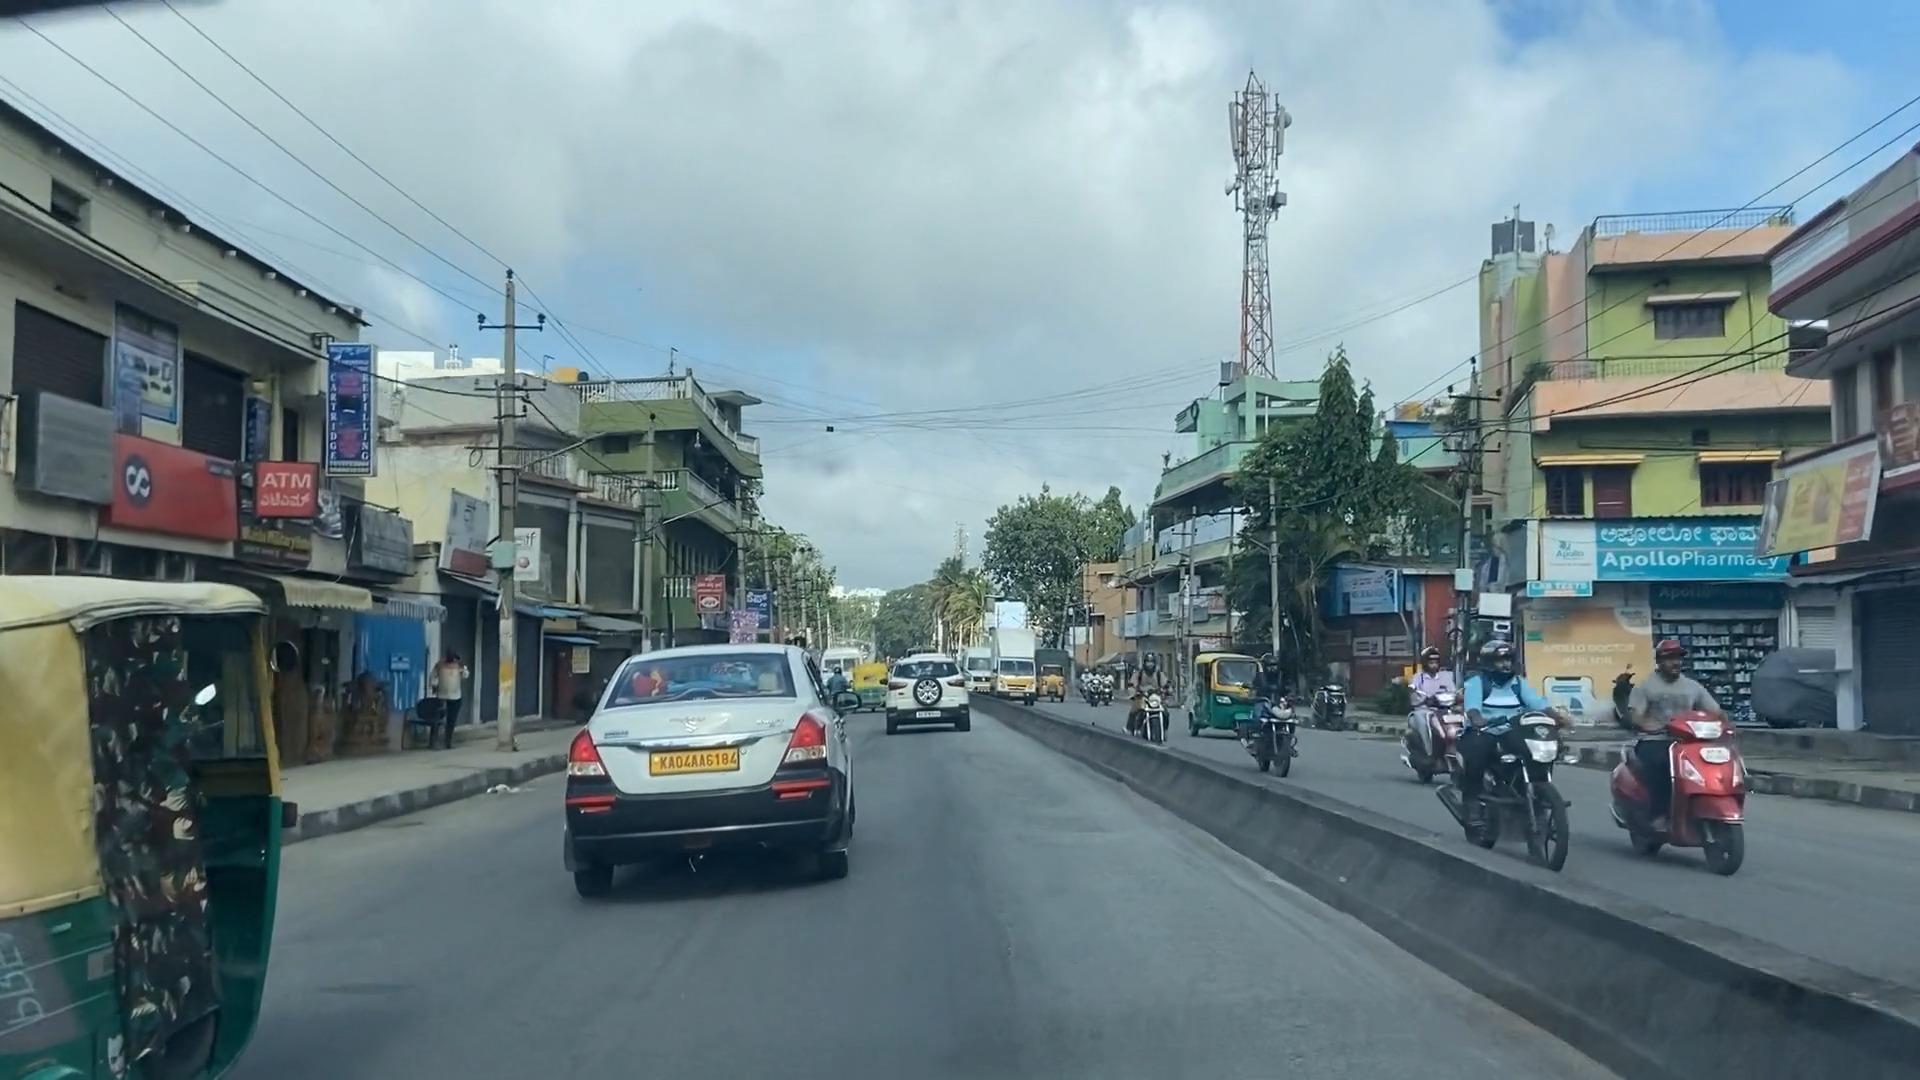LMV: (0, 571, 281, 1080), (567, 653, 853, 897), (887, 661, 971, 733)
